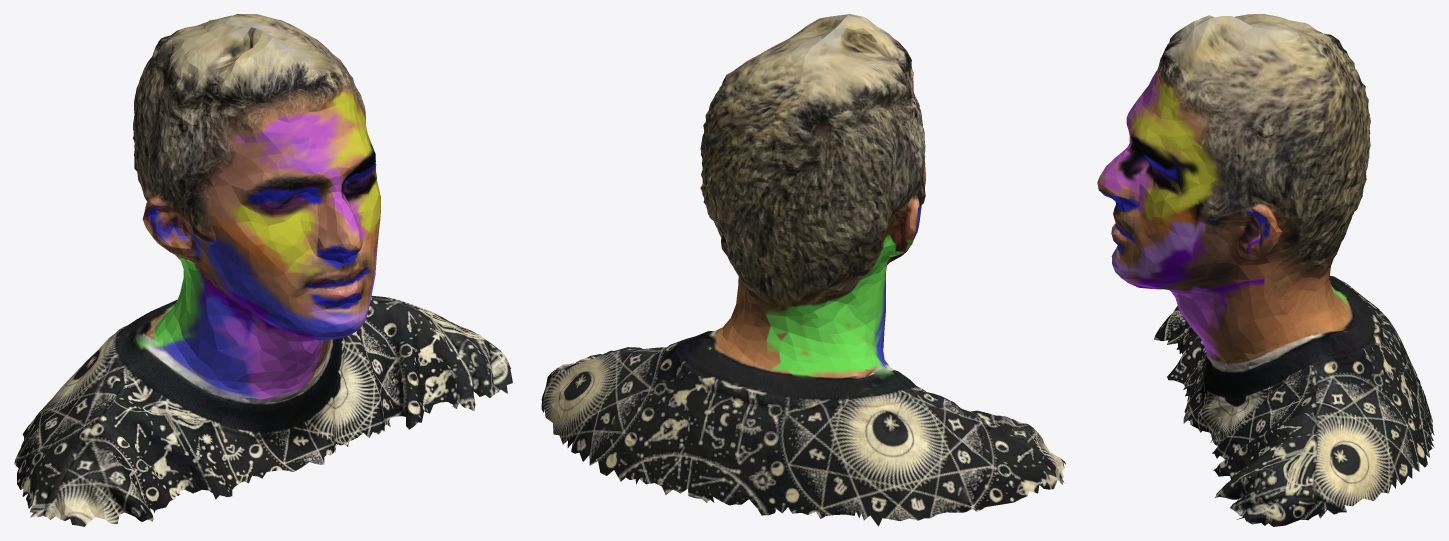
Rendered from Talhapaint.glb.
3 renders of one model, left to right at view 1: azimuth 30°, elevation 25°; view 2: azimuth 150°, elevation 25°; view 3: azimuth 270°, elevation 25°, orthographic. The views are drawn at different scales.
Parts seen in each view (by area): view 1: Mesh_0; view 2: Mesh_0; view 3: Mesh_0.
Boxes of the visible parts, <box> form: Mesh_0: <box>14,14,512,526</box>; Mesh_0: <box>541,14,1066,526</box>; Mesh_0: <box>1097,14,1434,526</box>.
Size of the model in its own units: 1.76 by 1.42 by 1.11.
Materials: 1 (1 with a texture image).
